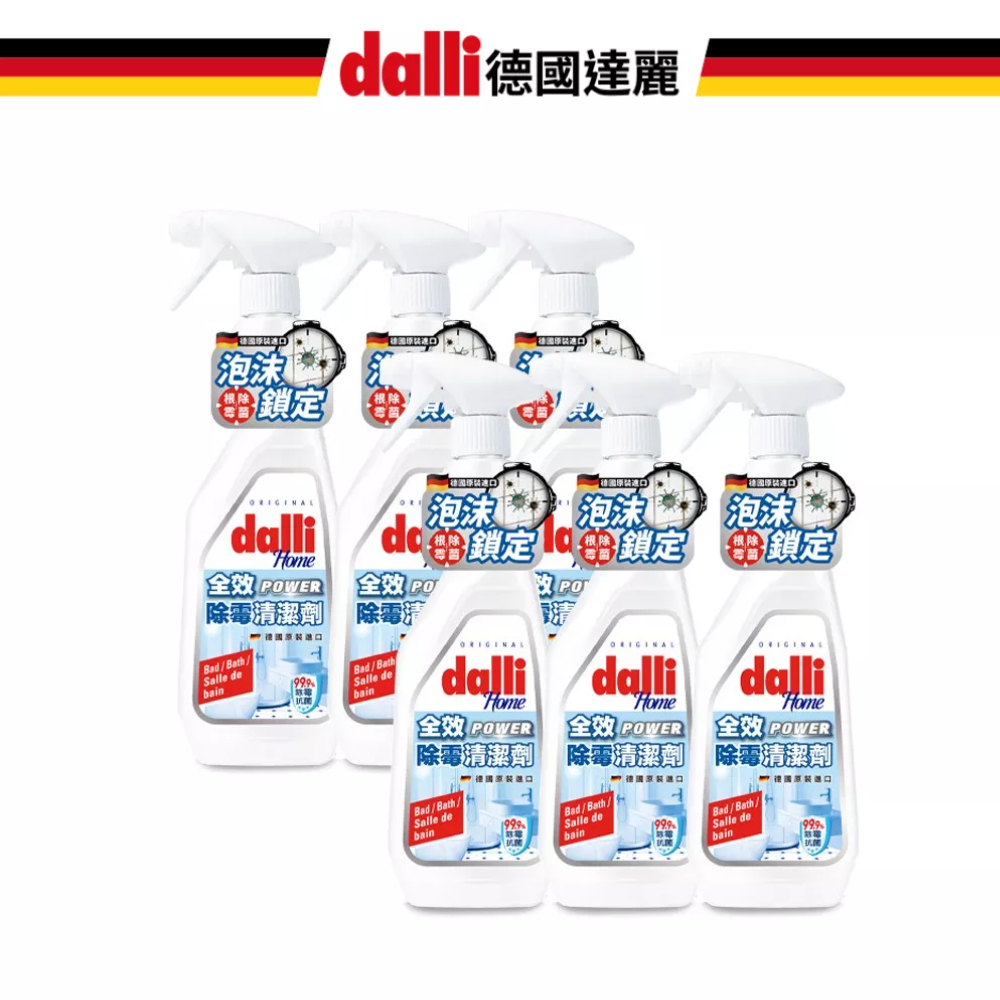cleaner: (289, 204, 517, 773), (660, 336, 861, 920), (514, 337, 717, 910), (146, 187, 339, 772), (453, 199, 698, 656), (358, 344, 554, 913)
